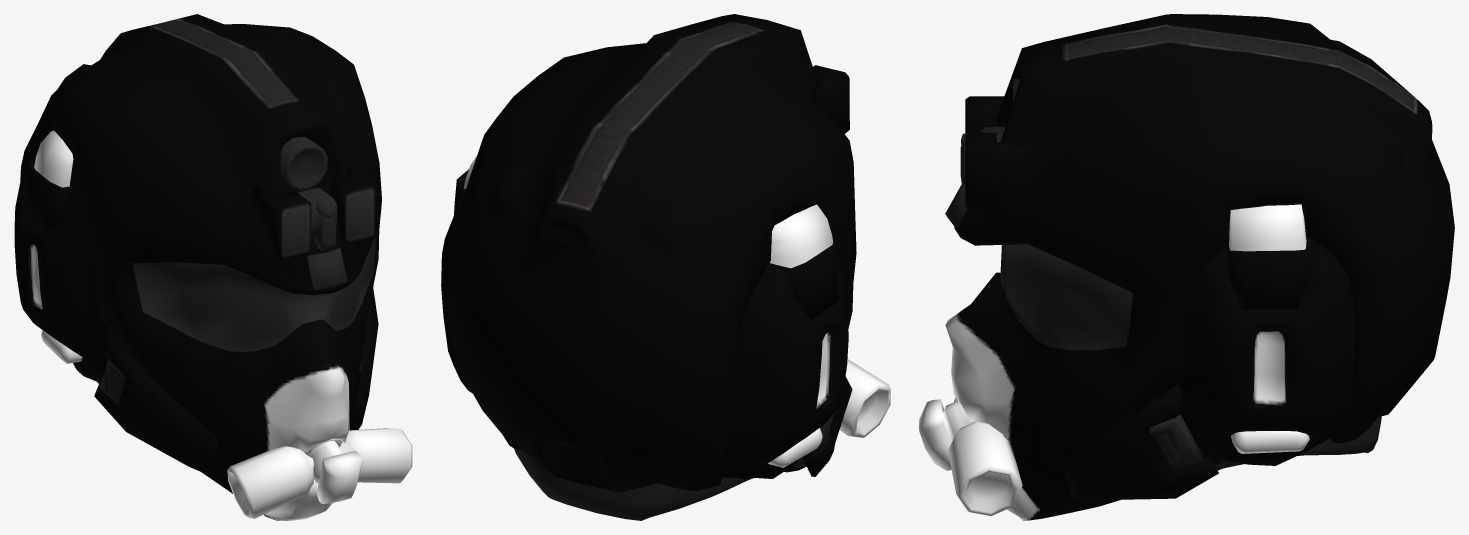
Rendered from SurvivorMale_Head_Helmet_HardlineV2_LOD0.glb.
The picture shows the model from 3 angles, left to right: view 1: azimuth 30°, elevation 25°; view 2: azimuth 150°, elevation 25°; view 3: azimuth 270°, elevation 25°; orthographic projection. The views are drawn at different scales.
Visible parts, largest first — view 1: Hoodie; view 2: Hoodie; view 3: Hoodie.
Boxes of the visible parts, x1,y1,x2,y2 form: Hoodie: (14,14,412,520); Hoodie: (441,14,890,520); Hoodie: (919,14,1454,520).
Bounding box in the file's own units: 0.2272 × 0.2732 × 0.279.
1 material, 1 textured.
